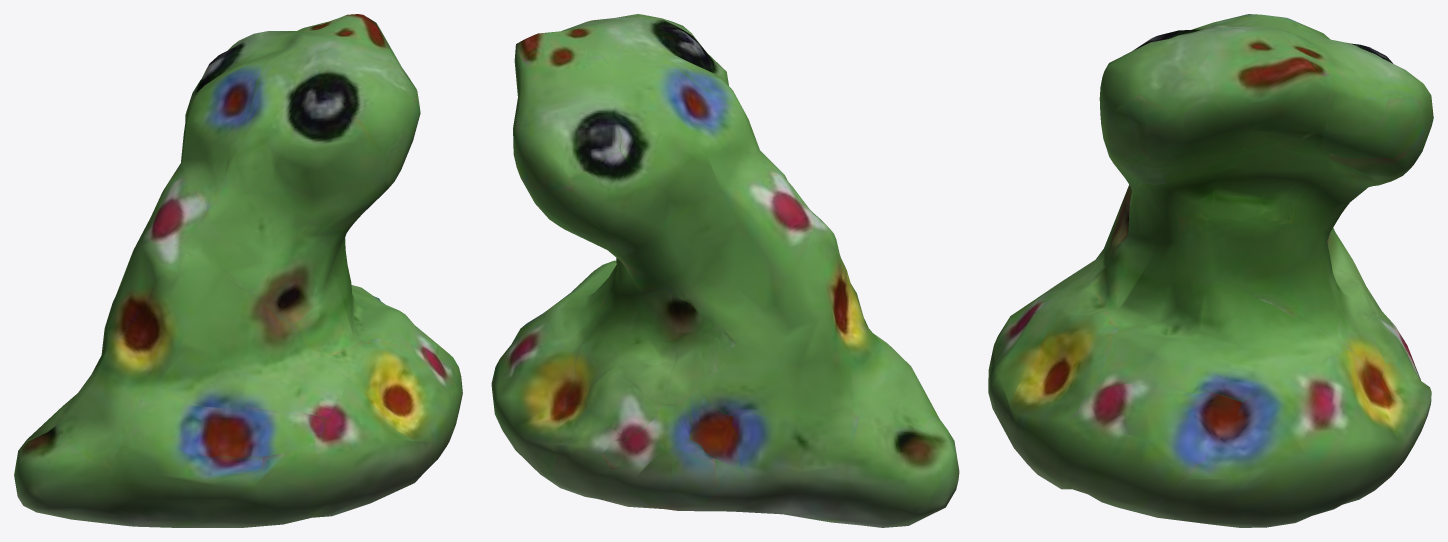
File: hall.glb
3 views of the same model, side by side, from view 1: azimuth 30°, elevation 25°; view 2: azimuth 150°, elevation 25°; view 3: azimuth 270°, elevation 25° (orthographic). The views are drawn at different scales.
Size of the model in its own units: 0.2204 by 0.2095 by 0.1743.
Materials: 1 (1 with a texture image).
